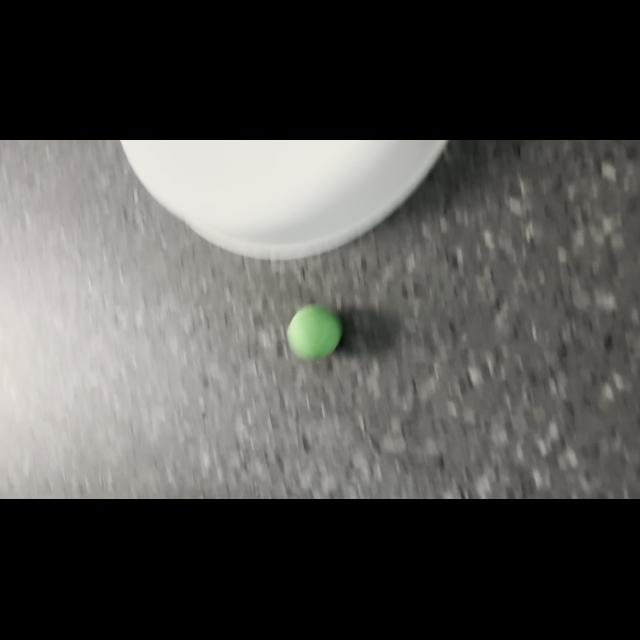objects: (280, 296, 346, 366)
